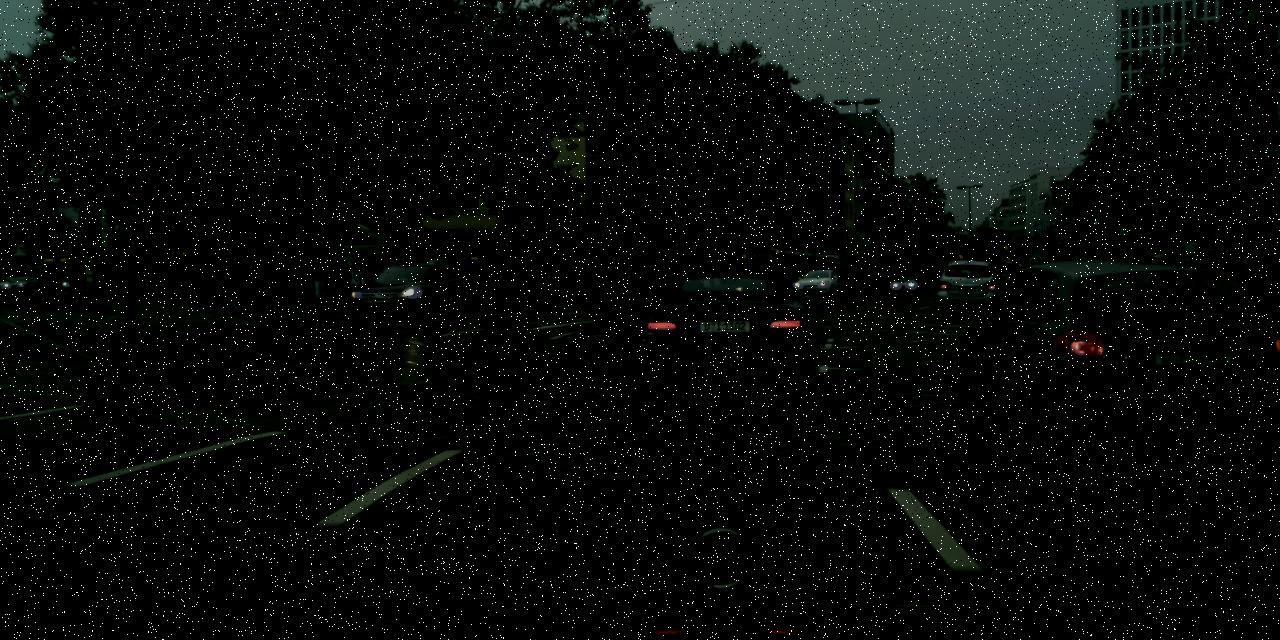ped: (85, 260, 121, 301), (374, 252, 394, 304), (42, 262, 56, 294)
